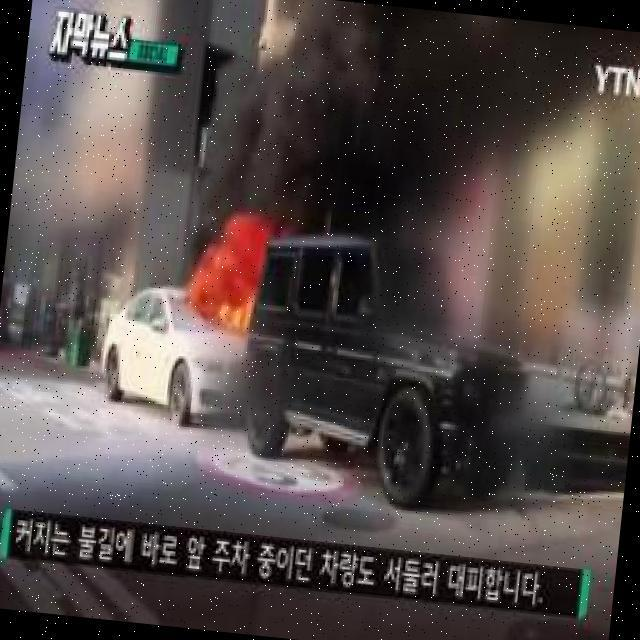Fire: (200, 210, 266, 329)
